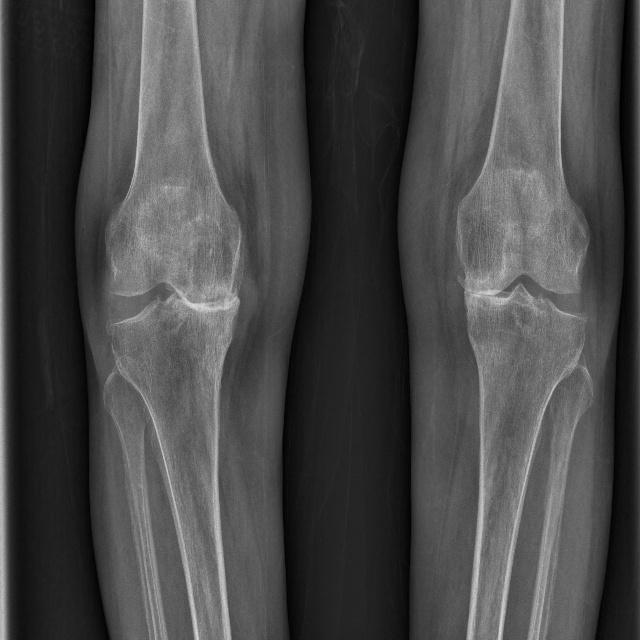Knee: (102, 217, 238, 360), (455, 214, 591, 353)
